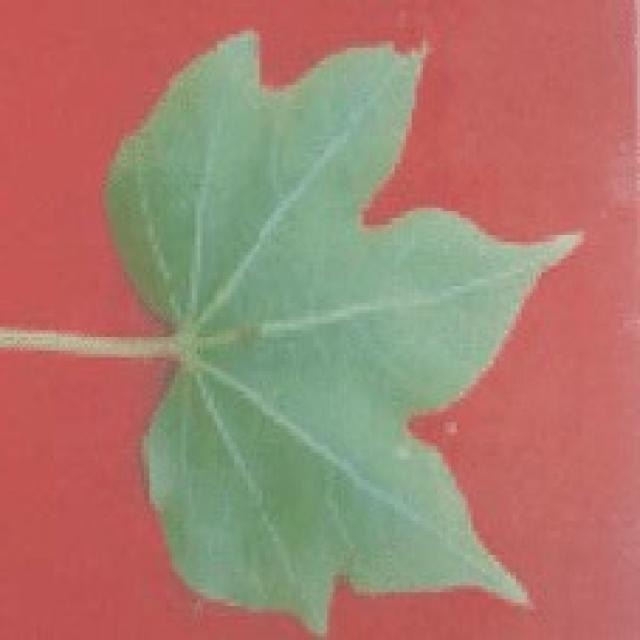Healthy Leaf: (16, 14, 596, 638)
